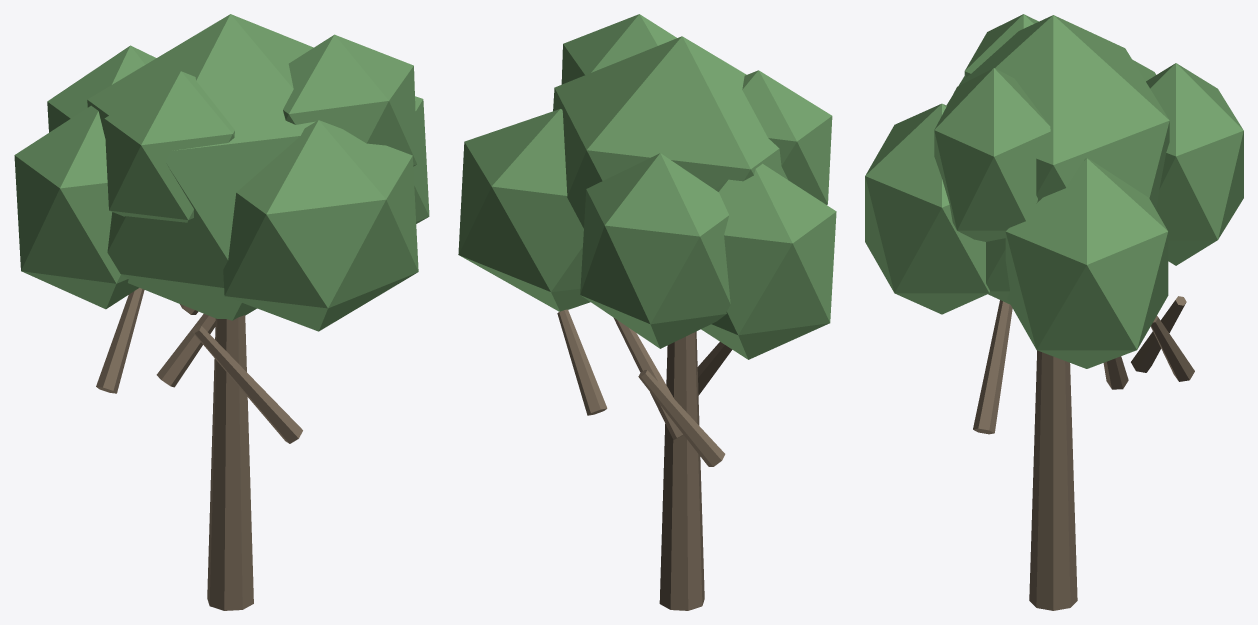
The model's file is tree-broad.glb.
The picture shows the model from 3 angles, left to right: view 1: azimuth 30°, elevation 25°; view 2: azimuth 150°, elevation 25°; view 3: azimuth 270°, elevation 25°; orthographic projection. The views are drawn at different scales.
Parts seen in each view (by area): view 1: TreeBroad; view 2: TreeBroad; view 3: TreeBroad.
Part boxes in pixels (x1,y1,x2,y2): TreeBroad: (14, 14, 429, 610); TreeBroad: (458, 14, 836, 610); TreeBroad: (865, 14, 1243, 610).
Bounding box in the file's own units: 1.21 × 1.74 × 1.02.
